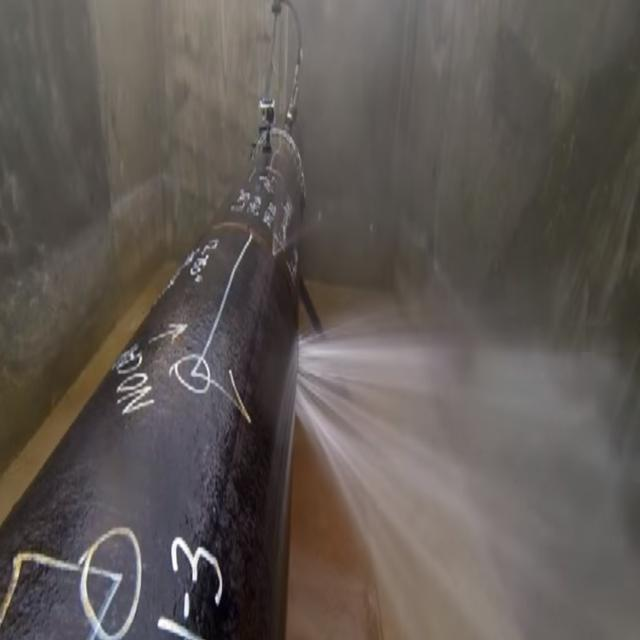leak: (295, 276, 640, 640)
